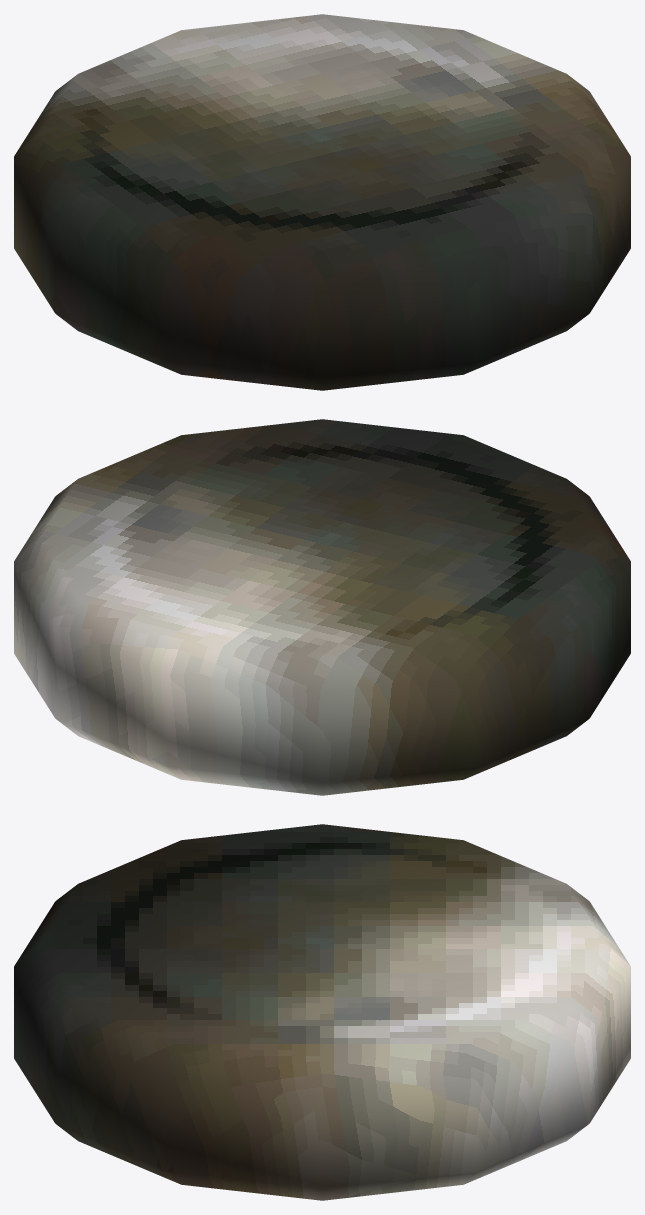
The model's file is INST_SM_CHAIN_STOPPER.obj.
3 renders of one model, top to bottom at view 1: azimuth 30°, elevation 25°; view 2: azimuth 150°, elevation 25°; view 3: azimuth 270°, elevation 25°, orthographic.
Parts seen in each view (by area): view 1: Object01; view 2: Object01; view 3: Object01.
Boxes of the visible parts, x1,y1,x2,y2 form: Object01: (14,14,630,390); Object01: (14,419,630,795); Object01: (14,824,630,1200).
Bounding box in the file's own units: 192 × 47.27 × 192.
